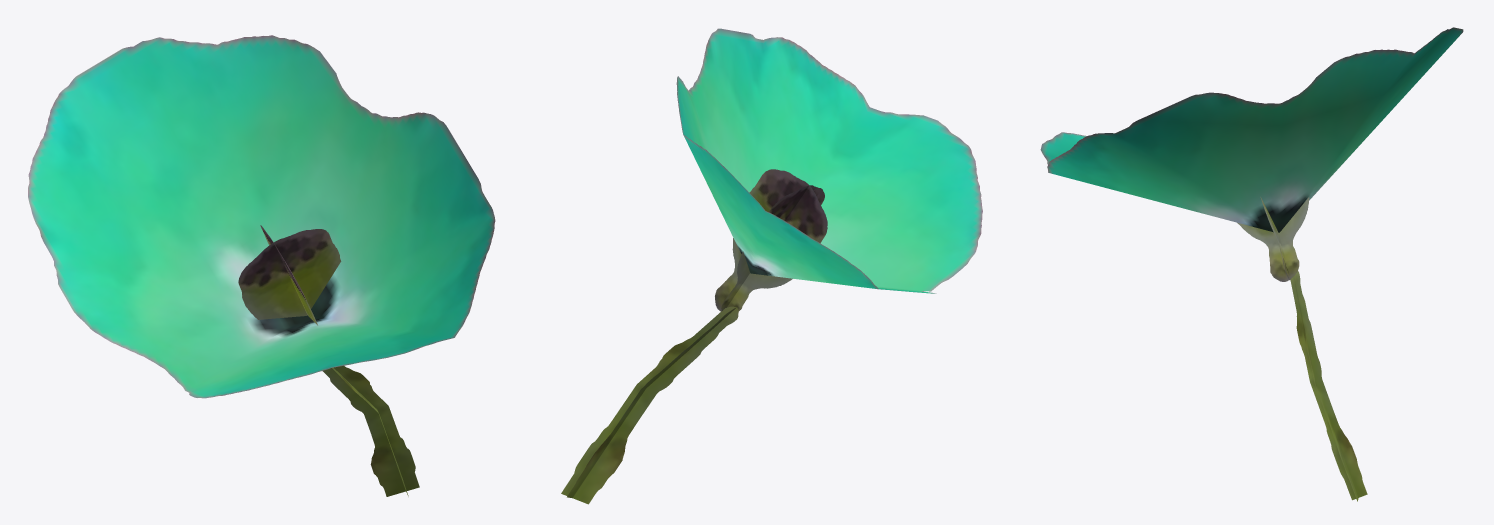
Rendered from fleur_3.fbx.
3 views of the same model, side by side, from view 1: azimuth 30°, elevation 25°; view 2: azimuth 150°, elevation 25°; view 3: azimuth 270°, elevation 25° (orthographic). The views are drawn at different scales.
Parts seen in each view (by area): view 1: _3e61_Var13_LOD2; view 2: _3e61_Var13_LOD2; view 3: _3e61_Var13_LOD2.
Boxes of the visible parts, x1,y1,x2,y2 form: _3e61_Var13_LOD2: (28,35,495,496); _3e61_Var13_LOD2: (561,28,982,504); _3e61_Var13_LOD2: (1040,27,1463,501).
Bounding box in the file's own units: 11.29 × 13.64 × 13.17.
